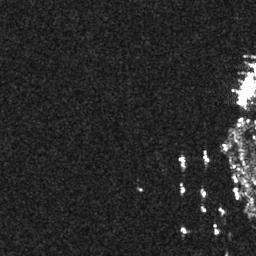ship: (234, 70, 256, 101), (232, 187, 241, 200), (178, 156, 187, 168), (203, 149, 210, 164), (200, 188, 208, 199), (179, 181, 186, 193), (219, 206, 227, 216), (180, 226, 188, 234)
